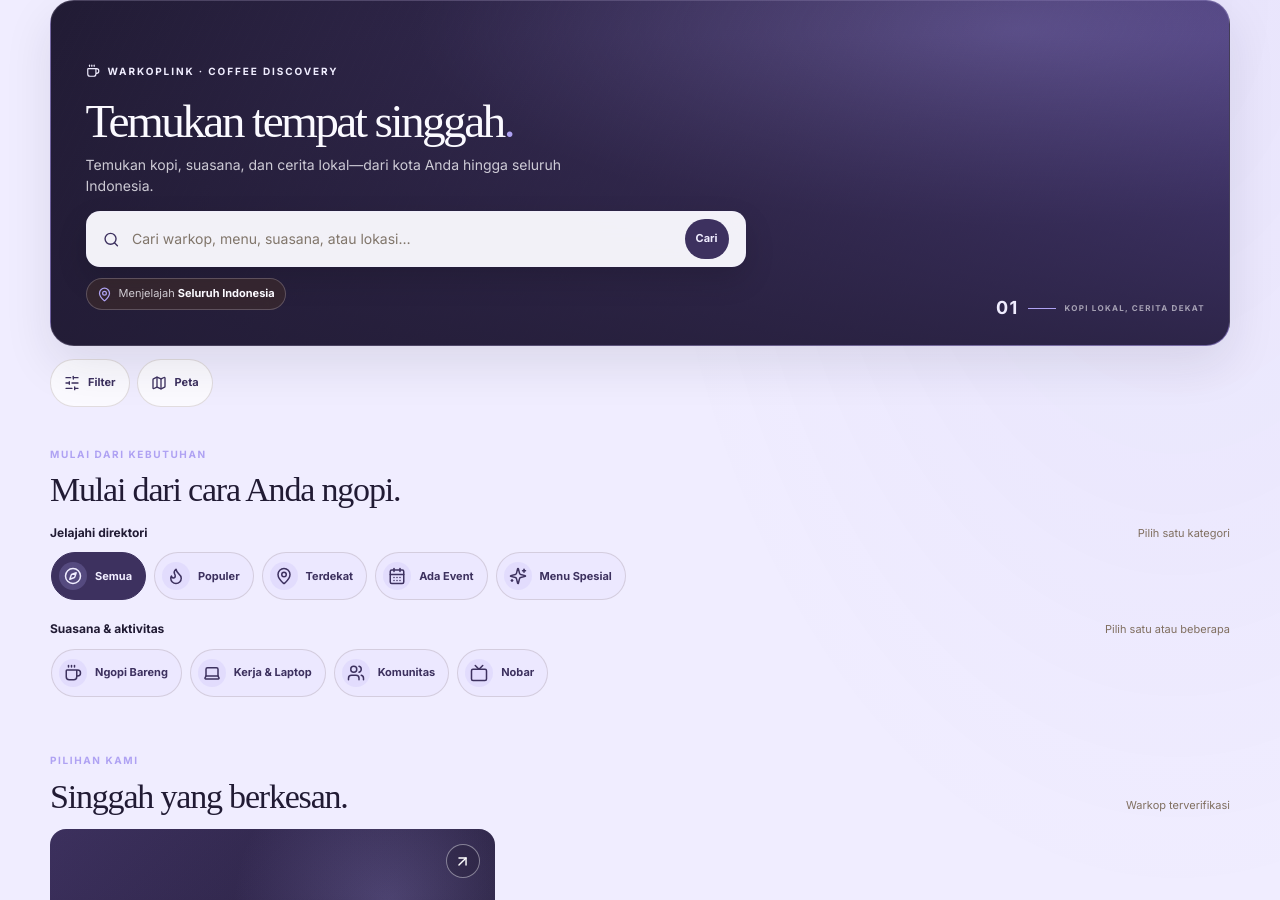
Test: kartu direktori warkop › menyediakan kategori discovery berbasis suasana dan aktivitas
The image size is (1280, 900).
Expected: the button "Ngopi Bareng" is shown, [51,649,182,697]
Expected: the button "Ada Event" is shown, [375,552,488,600]
Click the button "Menu Spesial" at (561, 576), box [496,552,626,600]
(page scrolled)
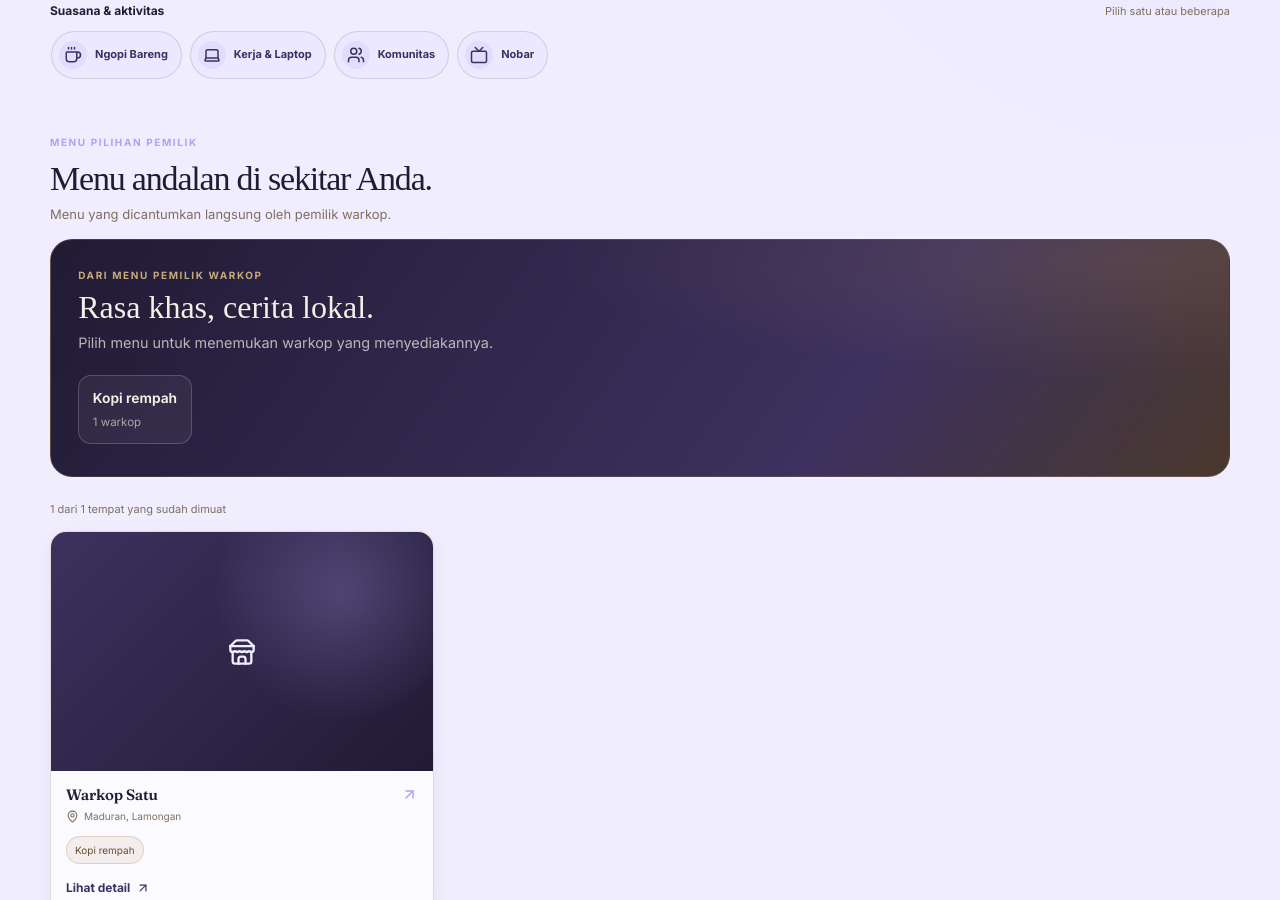
Now the text "Kopi rempah" below "Rasa khas, cerita lokal." is shown, box [93,390,177,406]
